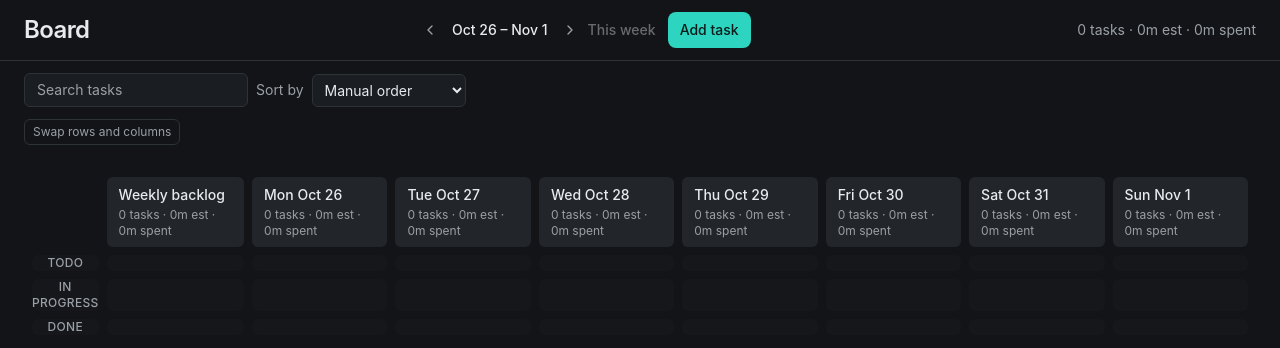
BoardPage › steps back to a past week and hides the weekly backlog column
Check: the column heading "Weekly backlog 0 tasks · 0m est · 0m spent" is shown, box [107,177,244,247]
Click the button named "Previous week".
click(430, 30)  # box [416,16,444,44]
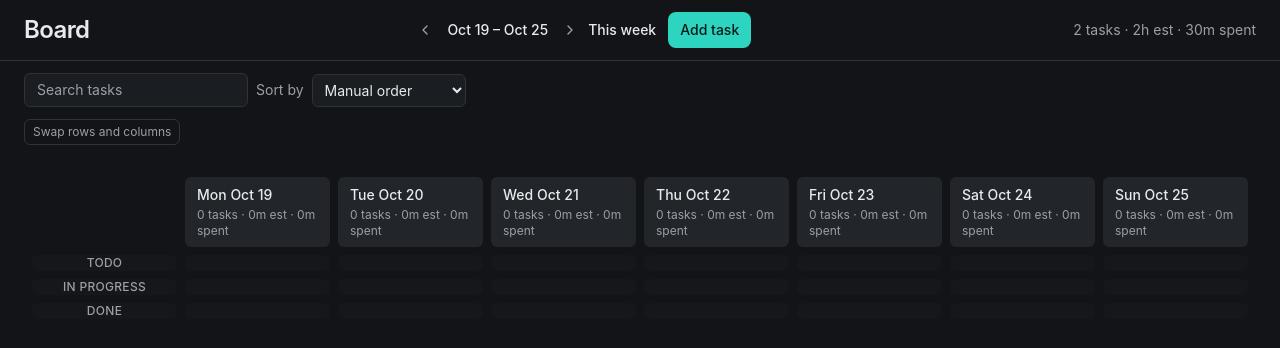
Check: the button named "Next week" is enabled, box [556,16,584,44]
Check: the text "Weekly backlog" is gone
Check: the button "Oct 19 – Oct 25" is shown, box [443,20,552,40]
